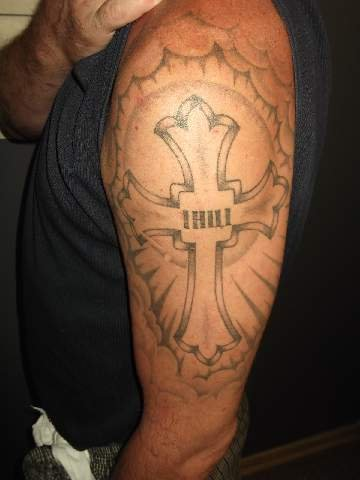tatu9_krest: (116, 97, 284, 370)
